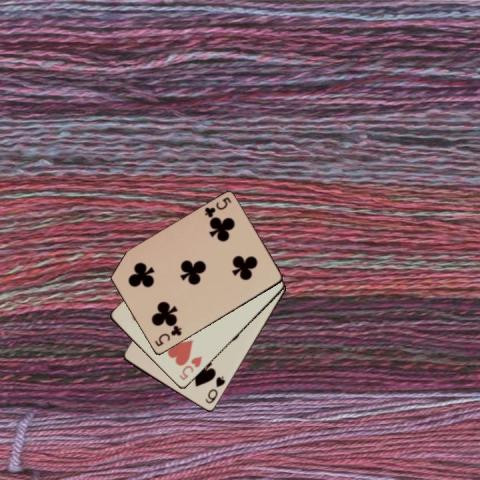5c: (151, 323, 183, 348), (201, 194, 233, 219)
5h: (176, 353, 203, 382)
6s: (202, 374, 227, 406)
